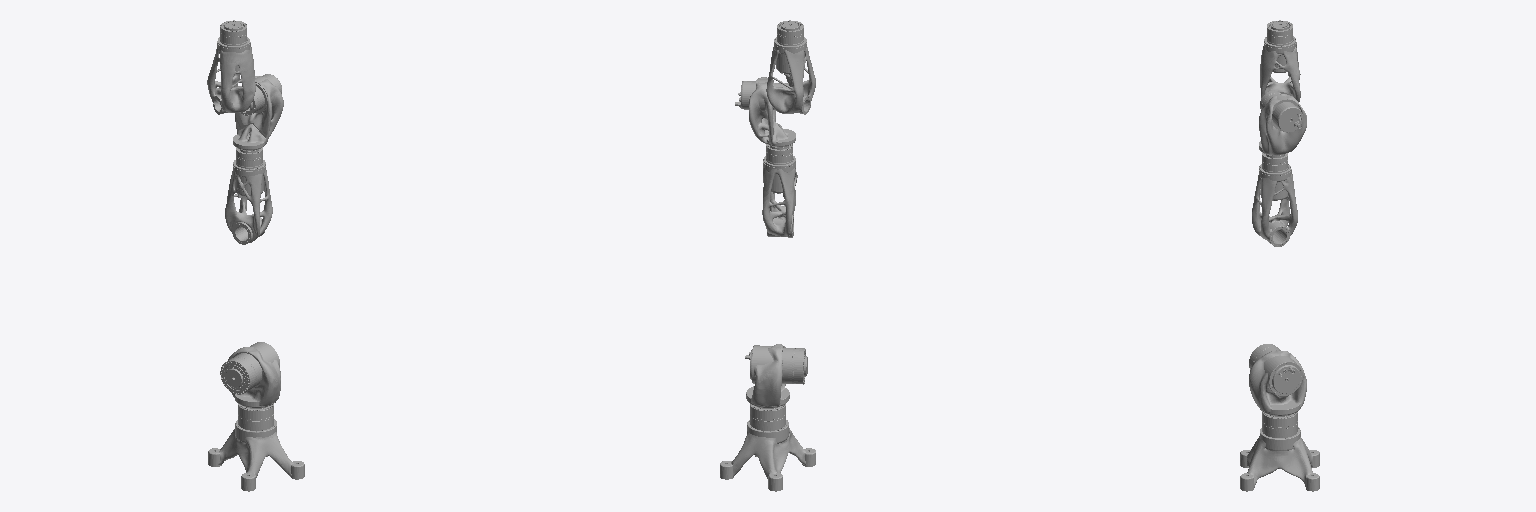
URDF robot description (sensorob):
<?xml version="1.0" ?>
<!-- =================================================================================== -->
<!-- |    This document was autogenerated by xacro from sensorob.xacro                 | -->
<!-- |    EDITING THIS FILE BY HAND IS NOT RECOMMENDED                                 | -->
<!-- =================================================================================== -->
<robot name="sensorob">
  <material name="silver">
    <color rgba="0.700 0.700 0.700 1.000"/>
  </material>
  <transmission name="joint_1_tran">
    <type>transmission_interface/SimpleTransmission</type>
    <joint name="joint_1">
      <hardwareInterface>hardware_interface/EffortJointInterface</hardwareInterface>
    </joint>
    <actuator name="joint_1_actr">
      <hardwareInterface>hardware_interface/EffortJointInterface</hardwareInterface>
      <mechanicalReduction>1</mechanicalReduction>
    </actuator>
  </transmission>
  <transmission name="joint_2_tran">
    <type>transmission_interface/SimpleTransmission</type>
    <joint name="joint_2">
      <hardwareInterface>hardware_interface/EffortJointInterface</hardwareInterface>
    </joint>
    <actuator name="joint_2_actr">
      <hardwareInterface>hardware_interface/EffortJointInterface</hardwareInterface>
      <mechanicalReduction>1</mechanicalReduction>
    </actuator>
  </transmission>
  <transmission name="joint_3_tran">
    <type>transmission_interface/SimpleTransmission</type>
    <joint name="joint_3">
      <hardwareInterface>hardware_interface/EffortJointInterface</hardwareInterface>
    </joint>
    <actuator name="joint_3_actr">
      <hardwareInterface>hardware_interface/EffortJointInterface</hardwareInterface>
      <mechanicalReduction>1</mechanicalReduction>
    </actuator>
  </transmission>
  <transmission name="joint_4_tran">
    <type>transmission_interface/SimpleTransmission</type>
    <joint name="joint_4">
      <hardwareInterface>hardware_interface/EffortJointInterface</hardwareInterface>
    </joint>
    <actuator name="joint_4_actr">
      <hardwareInterface>hardware_interface/EffortJointInterface</hardwareInterface>
      <mechanicalReduction>1</mechanicalReduction>
    </actuator>
  </transmission>
  <transmission name="joint_5_tran">
    <type>transmission_interface/SimpleTransmission</type>
    <joint name="joint_5">
      <hardwareInterface>hardware_interface/EffortJointInterface</hardwareInterface>
    </joint>
    <actuator name="joint_5_actr">
      <hardwareInterface>hardware_interface/EffortJointInterface</hardwareInterface>
      <mechanicalReduction>1</mechanicalReduction>
    </actuator>
  </transmission>
  <transmission name="joint_6_tran">
    <type>transmission_interface/SimpleTransmission</type>
    <joint name="joint_6">
      <hardwareInterface>hardware_interface/EffortJointInterface</hardwareInterface>
    </joint>
    <actuator name="joint_6_actr">
      <hardwareInterface>hardware_interface/EffortJointInterface</hardwareInterface>
      <mechanicalReduction>1</mechanicalReduction>
    </actuator>
  </transmission>
  <gazebo>
    <plugin filename="libgazebo_ros_control.so" name="control"/>
  </gazebo>
  <gazebo reference="base_link">
    <material>Gazebo/Silver</material>
    <mu1>0.2</mu1>
    <mu2>0.2</mu2>
    <selfCollide>true</selfCollide>
    <gravity>true</gravity>
  </gazebo>
  <gazebo reference="link_1_1">
    <material>Gazebo/Silver</material>
    <mu1>0.2</mu1>
    <mu2>0.2</mu2>
    <selfCollide>true</selfCollide>
  </gazebo>
  <gazebo reference="link_2_1">
    <material>Gazebo/Silver</material>
    <mu1>0.2</mu1>
    <mu2>0.2</mu2>
    <selfCollide>true</selfCollide>
  </gazebo>
  <gazebo reference="link_3_1">
    <material>Gazebo/Silver</material>
    <mu1>0.2</mu1>
    <mu2>0.2</mu2>
    <selfCollide>true</selfCollide>
  </gazebo>
  <gazebo reference="link_4_1">
    <material>Gazebo/Silver</material>
    <mu1>0.2</mu1>
    <mu2>0.2</mu2>
    <selfCollide>true</selfCollide>
  </gazebo>
  <gazebo reference="link_5_1">
    <material>Gazebo/Silver</material>
    <mu1>0.2</mu1>
    <mu2>0.2</mu2>
    <selfCollide>true</selfCollide>
  </gazebo>
  <gazebo reference="link_6_1">
    <material>Gazebo/Silver</material>
    <mu1>0.2</mu1>
    <mu2>0.2</mu2>
    <selfCollide>true</selfCollide>
  </gazebo>
  <link name="base_link">
    <inertial>
      <origin rpy="0 0 0" xyz="0.06842933950869011 0.0009438578686686358 -0.026799613448182"/>
      <mass value="1.855542034998811"/>
      <inertia ixx="0.00951" ixy="1e-05" ixz="2.3e-05" iyy="0.008318" iyz="-2.2e-05" izz="0.007035"/>
    </inertial>
    <visual>
      <origin rpy="0 0 0" xyz="0 0 0"/>
      <geometry>
        <mesh filename="package://sensorob_description/meshes/base_link.stl" scale="0.001 0.001 0.001"/>
      </geometry>
      <material name="silver"/>
    </visual>
    <collision>
      <origin rpy="0 0 0" xyz="0 0 0"/>
      <geometry>
        <mesh filename="package://sensorob_description/meshes/base_link.stl" scale="0.001 0.001 0.001"/>
      </geometry>
    </collision>
  </link>
  <link name="link_1">
    <inertial>
      <origin rpy="0 0 0" xyz="-0.017391128474433415 -0.007793862548282313 0.09170345730211693"/>
      <mass value="2.1673778446055563"/>
      <inertia ixx="0.006827" ixy="-0.000182" ixz="0.000778" iyy="0.00695" iyz="0.00035" izz="0.005681"/>
    </inertial>
    <visual>
      <origin rpy="0 0 0" xyz="-0.06828 -0.001091 -0.070444"/>
      <geometry>
        <mesh filename="package://sensorob_description/meshes/link_1.stl" scale="0.001 0.001 0.001"/>
      </geometry>
      <material name="silver"/>
    </visual>
    <collision>
      <origin rpy="0 0 0" xyz="-0.06828 -0.001091 -0.070444"/>
      <geometry>
        <mesh filename="package://sensorob_description/meshes/link_1.stl" scale="0.001 0.001 0.001"/>
      </geometry>
    </collision>
  </link>
  <link name="link_2">
    <inertial>
      <origin rpy="0 0 0" xyz="-0.03597352078588314 -0.017962304231270702 0.2436907782754546"/>
      <mass value="3.7950516594171546"/>
      <inertia ixx="0.123994" ixy="0.003737" ixz="-0.00102" iyy="0.117506" iyz="-0.000547" izz="0.018463"/>
    </inertial>
    <visual>
      <origin rpy="0 0 0" xyz="0.023626 0.041765 -0.187444"/>
      <geometry>
        <mesh filename="package://sensorob_description/meshes/link_2.stl" scale="0.001 0.001 0.001"/>
      </geometry>
      <material name="silver"/>
    </visual>
    <collision>
      <origin rpy="0 0 0" xyz="0.023626 0.041765 -0.187444"/>
      <geometry>
        <mesh filename="package://sensorob_description/meshes/link_2.stl" scale="0.001 0.001 0.001"/>
      </geometry>
    </collision>
  </link>
  <link name="link_3">
    <inertial>
      <origin rpy="0 0 0" xyz="0.03341663223535368 0.015743461072743326 0.13201293251123314"/>
      <mass value="1.1351525716942115"/>
      <inertia ixx="0.007184" ixy="9.8e-05" ixz="-7.1e-05" iyy="0.007038" iyz="-2.7e-05" izz="0.001398"/>
    </inertial>
    <visual>
      <origin rpy="0 0 0" xyz="-0.004978 0.028427 -0.612445"/>
      <geometry>
        <mesh filename="package://sensorob_description/meshes/link_3.stl" scale="0.001 0.001 0.001"/>
      </geometry>
      <material name="silver"/>
    </visual>
    <collision>
      <origin rpy="0 0 0" xyz="-0.004978 0.028427 -0.612445"/>
      <geometry>
        <mesh filename="package://sensorob_description/meshes/link_3.stl" scale="0.001 0.001 0.001"/>
      </geometry>
    </collision>
  </link>
  <link name="link_4">
    <inertial>
      <origin rpy="0 0 0" xyz="0.03362129286277545 0.015876430068886876 0.11081132606474609"/>
      <mass value="1.2025016995467235"/>
      <inertia ixx="0.004179" ixy="-0.000203" ixz="-0.000573" iyy="0.004517" iyz="-0.000281" izz="0.002169"/>
    </inertial>
    <visual>
      <origin rpy="0 0 0" xyz="-0.038874 0.012621 -0.86107"/>
      <geometry>
        <mesh filename="package://sensorob_description/meshes/link_4.stl" scale="0.001 0.001 0.001"/>
      </geometry>
      <material name="silver"/>
    </visual>
    <collision>
      <origin rpy="0 0 0" xyz="-0.038874 0.012621 -0.86107"/>
      <geometry>
        <mesh filename="package://sensorob_description/meshes/link_4.stl" scale="0.001 0.001 0.001"/>
      </geometry>
    </collision>
  </link>
  <link name="link_5">
    <inertial>
      <origin rpy="0 0 0" xyz="-0.013801299868957234 -0.00696463747478801 0.11721977365765945"/>
      <mass value="1.10970553090912"/>
      <inertia ixx="0.006017" ixy="3.4e-05" ixz="-0.000366" iyy="0.005981" iyz="-0.000165" izz="0.001491"/>
    </inertial>
    <visual>
      <origin rpy="0 0 0" xyz="-0.013787 0.024319 -1.004695"/>
      <geometry>
        <mesh filename="package://sensorob_description/meshes/link_5.stl" scale="0.001 0.001 0.001"/>
      </geometry>
      <material name="silver"/>
    </visual>
    <collision>
      <origin rpy="0 0 0" xyz="-0.013787 0.024319 -1.004695"/>
      <geometry>
        <mesh filename="package://sensorob_description/meshes/link_5.stl" scale="0.001 0.001 0.001"/>
      </geometry>
    </collision>
  </link>
  <link name="link_6">
    <inertial>
      <origin rpy="0 0 0" xyz="-3.4959433121376643e-07 -1.774095831907907e-07 0.005353824436649113"/>
      <mass value="0.04766984698965481"/>
      <inertia ixx="9e-06" ixy="0.0" ixz="0.0" iyy="9e-06" iyz="-0.0" izz="1.7e-05"/>
    </inertial>
    <visual>
      <origin rpy="0 0 0" xyz="-0.003818 0.028968 -1.226445"/>
      <geometry>
        <mesh filename="package://sensorob_description/meshes/link_6.stl" scale="0.001 0.001 0.001"/>
      </geometry>
      <material name="silver"/>
    </visual>
    <collision>
      <origin rpy="0 0 0" xyz="-0.003818 0.028968 -1.226445"/>
      <geometry>
        <mesh filename="package://sensorob_description/meshes/link_6.stl" scale="0.001 0.001 0.001"/>
      </geometry>
    </collision>
  </link>
  <joint name="joint_1" type="revolute">
    <origin rpy="0 0 0" xyz="0.06828 0.001091 0.070444"/>
    <parent link="base_link"/>
    <child link="link_1"/>
    <axis xyz="0.0 -0.0 1.0"/>
    <limit effort="100" lower="-2.96706" upper="2.181662" velocity="100"/>
  </joint>
  <joint name="joint_2" type="revolute">
    <origin rpy="0 0 0" xyz="-0.091906 -0.042856 0.117"/>
    <parent link="link_1"/>
    <child link="link_2"/>
    <axis xyz="-0.906308 -0.422618 0.0"/>
    <limit effort="100" lower="-2.007129" upper="2.007129" velocity="100"/>
  </joint>
  <joint name="joint_3" type="revolute">
    <origin rpy="0 0 0" xyz="0.028604 0.013338 0.425001"/>
    <parent link="link_2"/>
    <child link="link_3"/>
    <axis xyz="0.906308 0.422618 -0.0"/>
    <limit effort="100" lower="-2.792527" upper="2.879793" velocity="100"/>
  </joint>
  <joint name="joint_4" type="revolute">
    <origin rpy="0 0 0" xyz="0.033896 0.015806 0.248625"/>
    <parent link="link_3"/>
    <child link="link_4"/>
    <axis xyz="0.0 0.0 1.0"/>
    <limit effort="100" lower="-1.658063" upper="4.45059" velocity="100"/>
  </joint>
  <joint name="joint_5" type="revolute">
    <origin rpy="0 0 0" xyz="-0.025087 -0.011698 0.143625"/>
    <parent link="link_4"/>
    <child link="link_5"/>
    <axis xyz="-0.906308 -0.422618 -0.0"/>
    <limit effort="100" lower="-2.96706" upper="2.96706" velocity="100"/>
  </joint>
  <joint name="joint_6" type="revolute">
    <origin rpy="0 0 0" xyz="-0.009969 -0.004649 0.22175"/>
    <parent link="link_5"/>
    <child link="link_6"/>
    <axis xyz="-0.0 -0.0 1.0"/>
    <limit effort="100" lower="-3.141593" upper="3.141593" velocity="100"/>
  </joint>
</robot>

--- What the picture shows (computed from the rendered views, not written in the file) ---
Views: 3 orthographic renders of the robot side by side, from view 1: azimuth 30°, elevation 25°; view 2: azimuth 150°, elevation 25°; view 3: azimuth 270°, elevation 25°.
Model sensorob with 7 links and 6 joints (6 revolute), rooted at base_link, posed every joint at zero.
Links seen in each view (by area): view 1: base_link, link_3, link_5, link_1, link_4; view 2: base_link, link_5, link_1, link_3, link_4; view 3: base_link, link_1, link_3, link_4, link_5.
Boxes of the visible links, box(x1,y1,x2,y2) form: base_link: box(208, 404, 304, 491); link_3: box(225, 147, 272, 244); link_5: box(207, 20, 255, 114); link_1: box(220, 342, 280, 408); link_4: box(233, 74, 283, 150); base_link: box(720, 404, 815, 491); link_5: box(766, 20, 815, 114); link_1: box(745, 344, 807, 408); link_3: box(762, 144, 797, 237); link_4: box(735, 77, 795, 147); base_link: box(1240, 412, 1319, 491); link_1: box(1249, 344, 1306, 416); link_3: box(1252, 152, 1297, 246); link_4: box(1259, 91, 1306, 155); link_5: box(1260, 20, 1300, 101).
Size in the robot's own frame: 0.2283 by 0.2235 by 1.37 metres.
6 mesh visuals loaded from 7 distinct referenced files (6 binary STL); not drawn: 1 (reference not matched to a file when rendering).